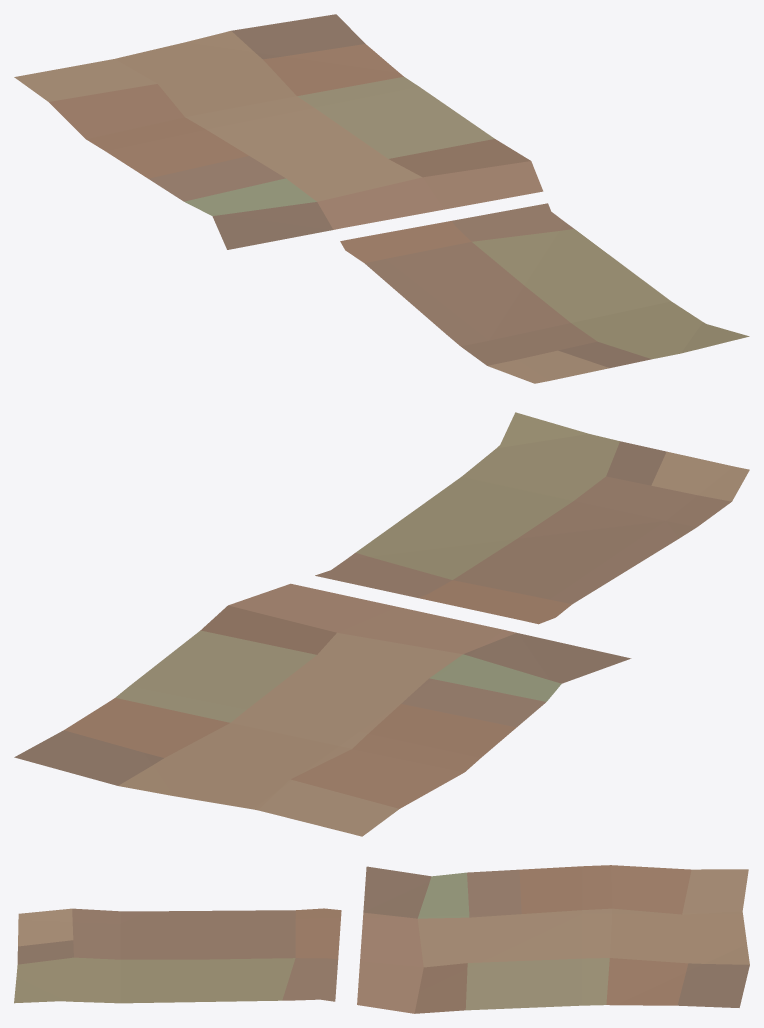
Rendered from farm_29_25_soil.glb.
The picture shows the model from 3 angles, top to bottom: view 1: azimuth 30°, elevation 25°; view 2: azimuth 150°, elevation 25°; view 3: azimuth 270°, elevation 25°; orthographic projection. The views are drawn at different scales.
Visible parts, largest first — view 1: geometry_0; view 2: geometry_0; view 3: geometry_0.
Part boxes in pixels (bbox=[...]): geometry_0: bbox=[14, 14, 749, 383]; geometry_0: bbox=[14, 412, 749, 836]; geometry_0: bbox=[14, 865, 749, 1013].
Size of the model in its own units: 112 by 6.64 by 255.
